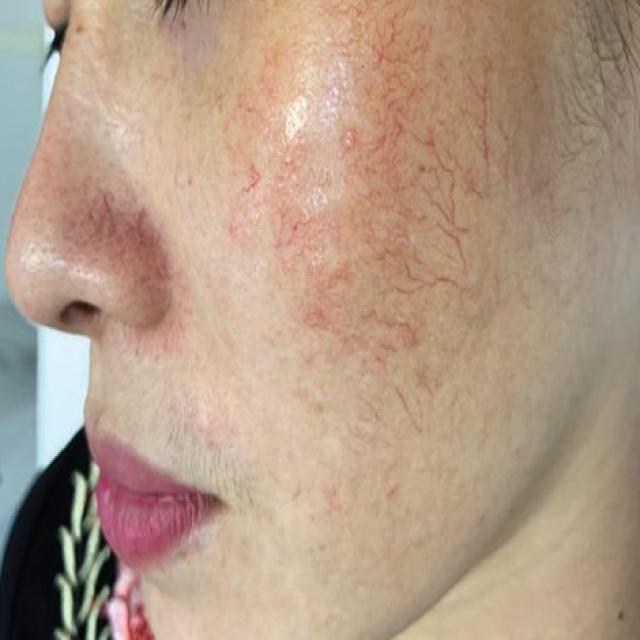Skin-Redness: (335, 0, 509, 429), (238, 132, 314, 262), (68, 176, 172, 264)
